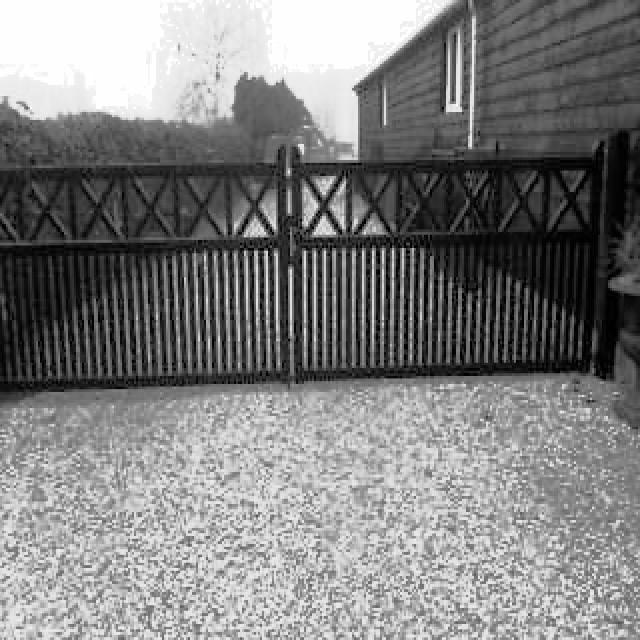fences: (3, 166, 592, 363)
